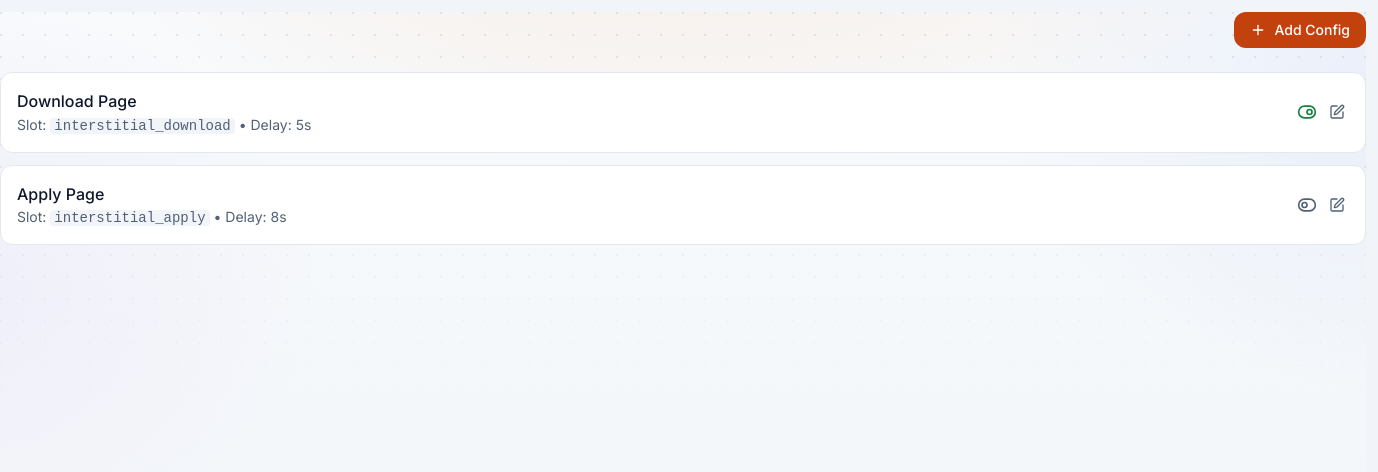
Test case: InterstitialManager › shows add form when Add Config button is clicked
The image size is (1378, 472).
What coordinates should you click on to do the following:
click the button "Add Config"
I would click on:
 (1300, 30)
Its box is [1234,12,1366,48].
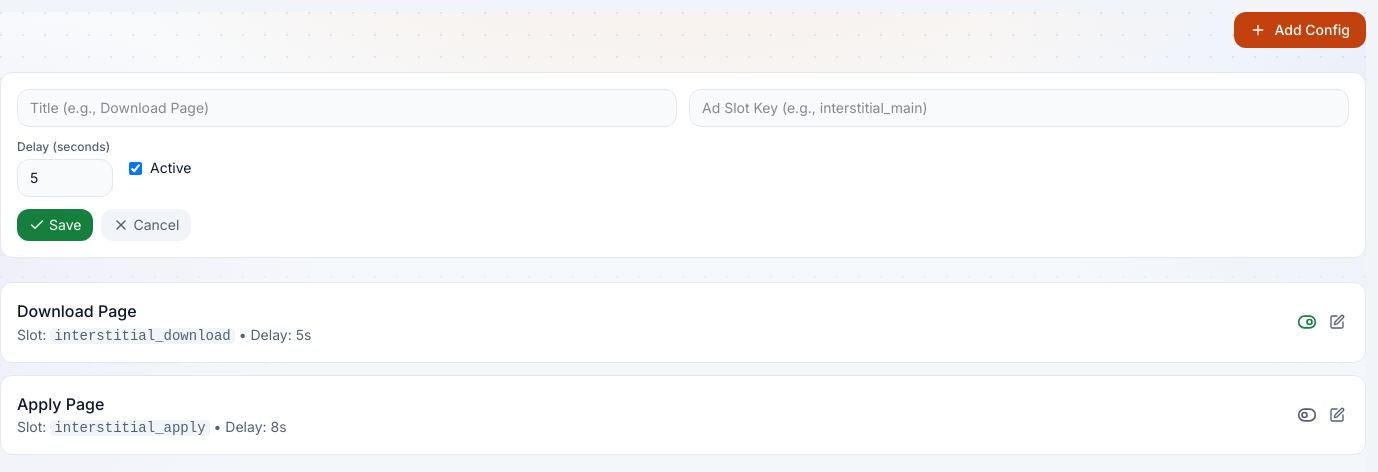
Expected: the field with placeholder "Title (e.g., Download Page)" is shown, [17,89,677,127]
Expected: the field with placeholder "Ad Slot Key (e.g., interstitial_main)" is shown, [689,89,1349,127]
